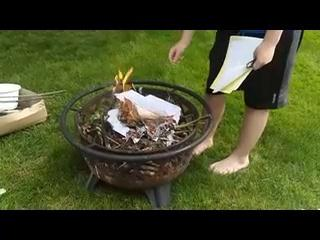Fire: (104, 48, 145, 126)
